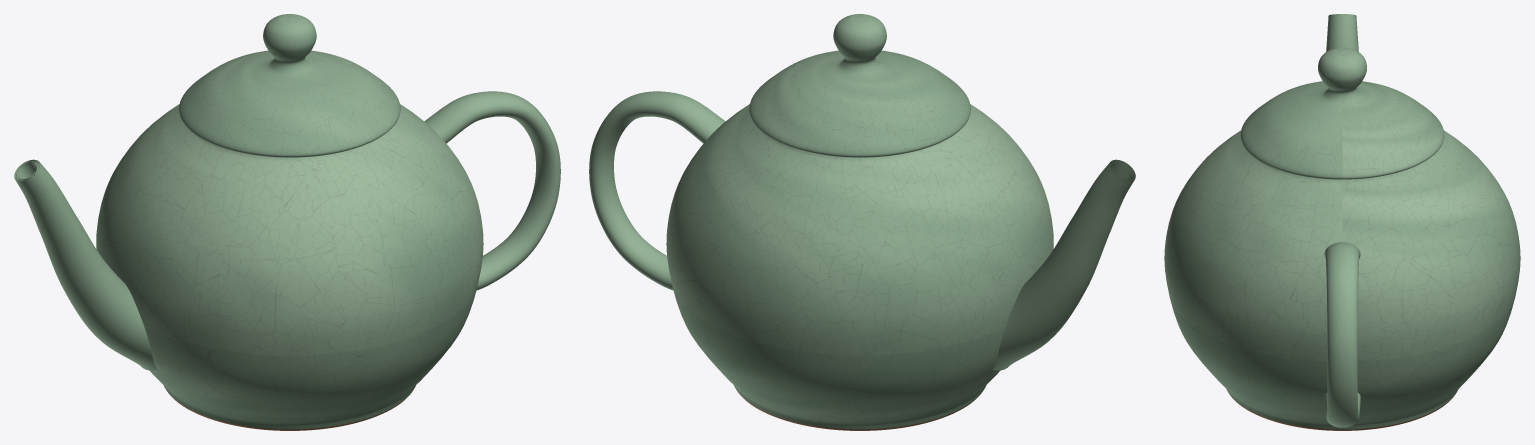
The model's file is celadon-teapot.glb.
3 views of the same model, side by side, from view 1: azimuth 30°, elevation 25°; view 2: azimuth 150°, elevation 25°; view 3: azimuth 270°, elevation 25° (orthographic). The views are drawn at different scales.
Parts seen in each view (by area): view 1: teapot-body, teapot-lid, teapot-spout, teapot-handle; view 2: teapot-body, teapot-lid, teapot-spout, teapot-handle; view 3: teapot-body, teapot-lid, teapot-handle, teapot-spout.
Boxes of the visible parts, x1,y1,x2,y2 form: teapot-body: (96,104,483,430); teapot-lid: (179,14,400,157); teapot-spout: (14,159,157,370); teapot-handle: (424,91,560,290); teapot-body: (666,104,1053,430); teapot-lid: (749,14,970,157); teapot-spout: (992,159,1135,370); teapot-handle: (589,91,725,290); teapot-body: (1164,130,1520,430); teapot-lid: (1240,47,1444,179); teapot-handle: (1324,242,1360,427); teapot-spout: (1326,14,1358,51).
Bounding box in the file's own units: 0.2756 × 0.1753 × 0.1708.
3 materials, 2 textured.
